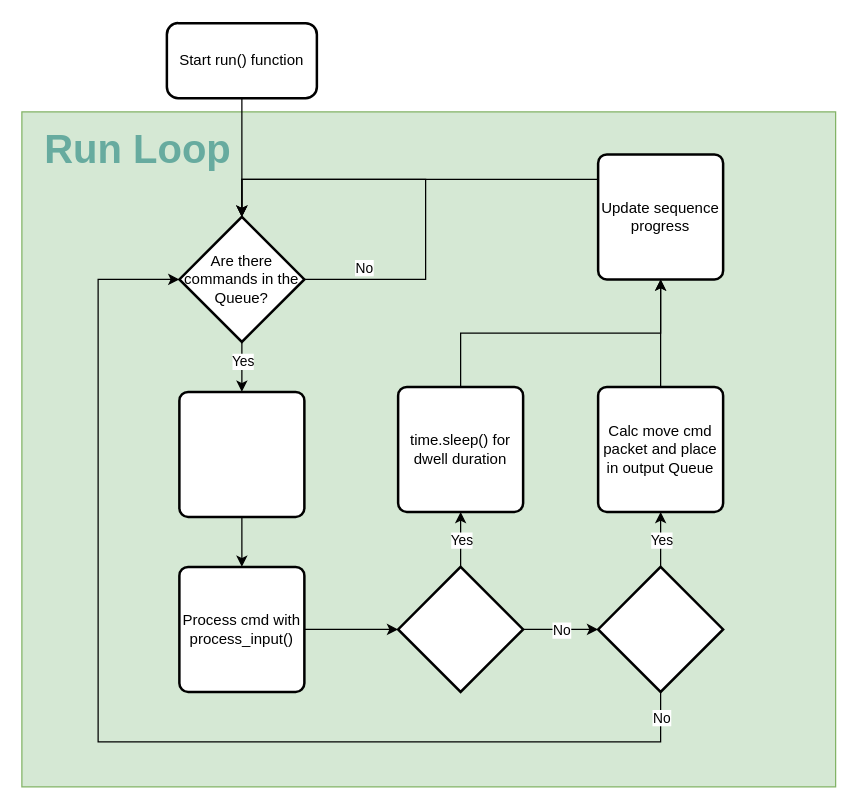
This 858x809 diagram has some shape labels left out. The centre of each missing label's shape, as x and y in pixels:
Dwell?: pixel 460 628
Move?: pixel 660 628
Pop command from Queue: pixel 241 454
